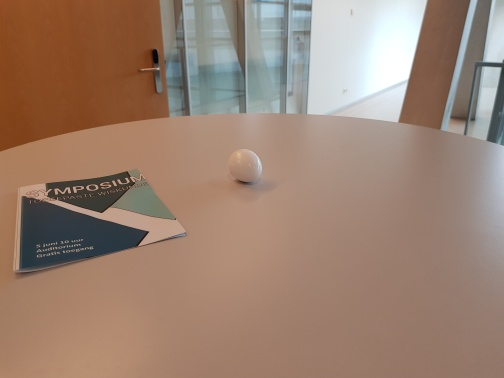egg: (226, 148, 263, 185)
